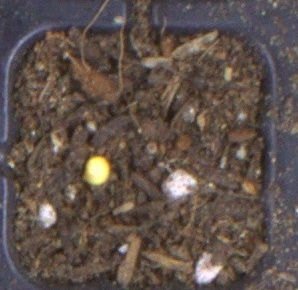chilli seed: (82, 156, 110, 185)
